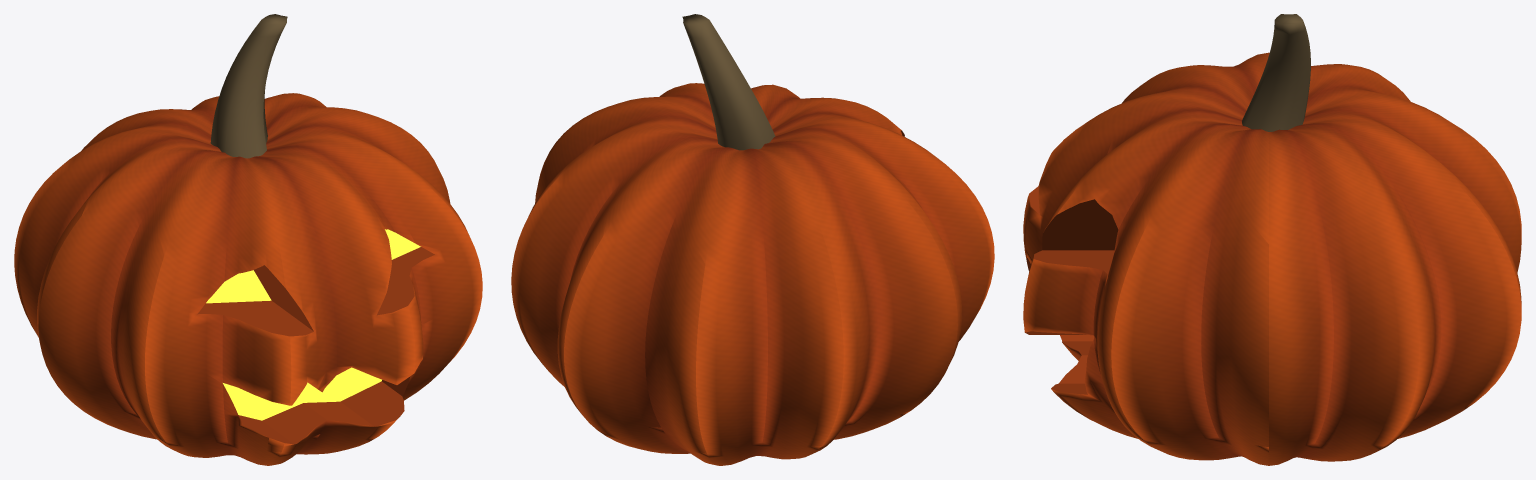
File: HarvestPumpkin.fbx
The picture shows the model from 3 angles, left to right: view 1: azimuth 30°, elevation 25°; view 2: azimuth 150°, elevation 25°; view 3: azimuth 270°, elevation 25°; orthographic projection. The views are drawn at different scales.
Visible parts, largest first — view 1: HarvestPumpkin_Rind.002, HarvestPumpkin_Stem.002, HarvestPumpkin_Ember_2.002, HarvestPumpkin_Ember_0.002, HarvestPumpkin_Ember_1.002; view 2: HarvestPumpkin_Rind.002, HarvestPumpkin_Stem.002; view 3: HarvestPumpkin_Rind.002, HarvestPumpkin_Stem.002.
Part boxes in pixels (left/top/right/bottom): HarvestPumpkin_Rind.002: left=14, top=93, right=482, bottom=465; HarvestPumpkin_Stem.002: left=210, top=14, right=287, bottom=158; HarvestPumpkin_Ember_2.002: left=223, top=367, right=381, bottom=420; HarvestPumpkin_Ember_0.002: left=206, top=270, right=271, bottom=303; HarvestPumpkin_Ember_1.002: left=385, top=229, right=420, bottom=259; HarvestPumpkin_Rind.002: left=511, top=83, right=994, bottom=465; HarvestPumpkin_Stem.002: left=682, top=14, right=775, bottom=150; HarvestPumpkin_Rind.002: left=1023, top=52, right=1521, bottom=465; HarvestPumpkin_Stem.002: left=1242, top=14, right=1310, bottom=131.
Size of the model in its own units: 167 by 156 by 159.
3 materials, 1 textured.
